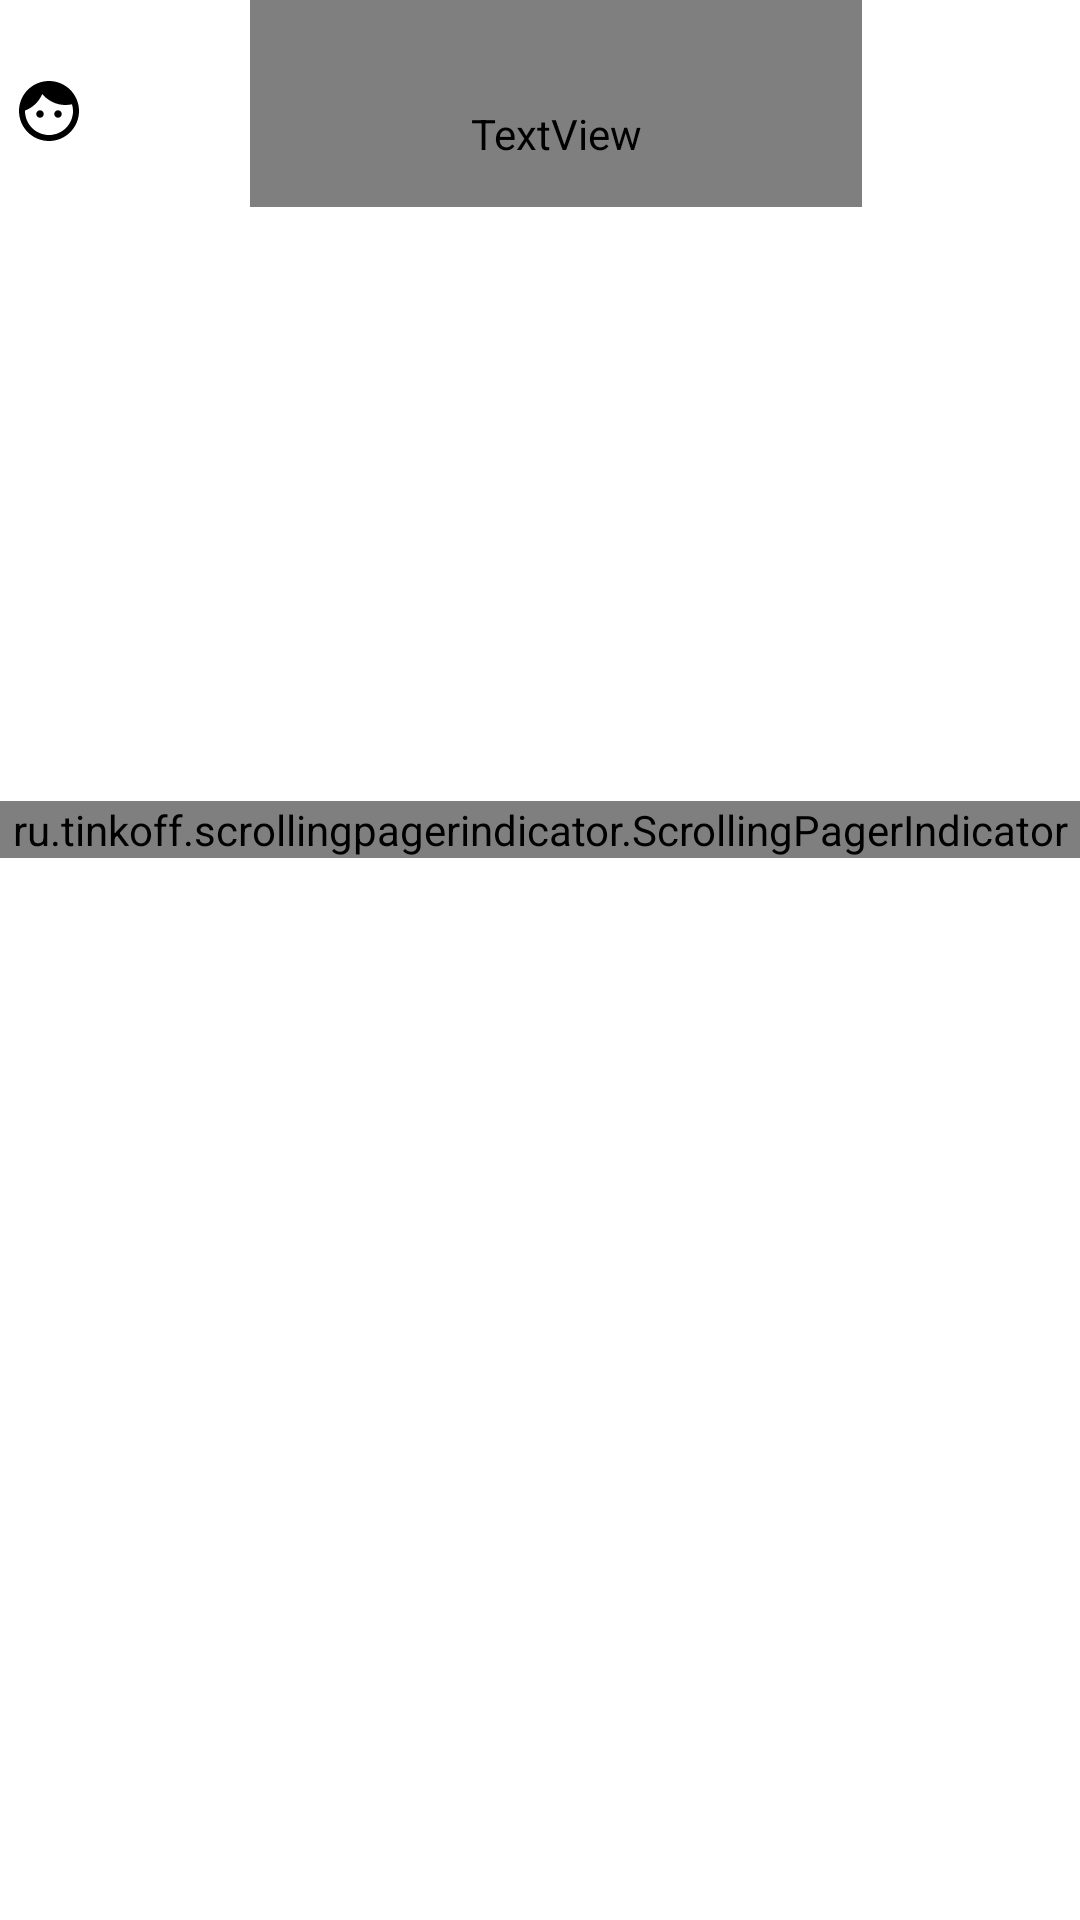

Where to tap for icons on this 1080px×1920px app screen, as [x,y]:
face: [49,111]
